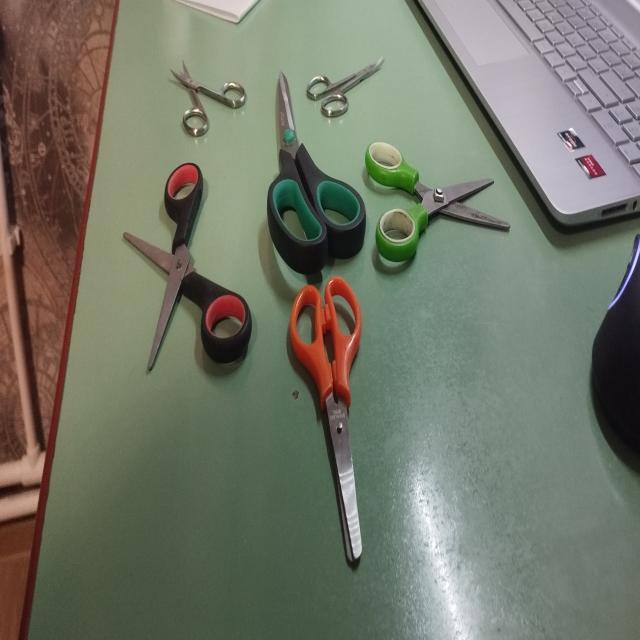tesoura: (121, 154, 253, 382), (261, 56, 373, 282), (286, 272, 364, 575), (365, 134, 511, 268), (169, 56, 247, 141), (305, 55, 385, 122)
